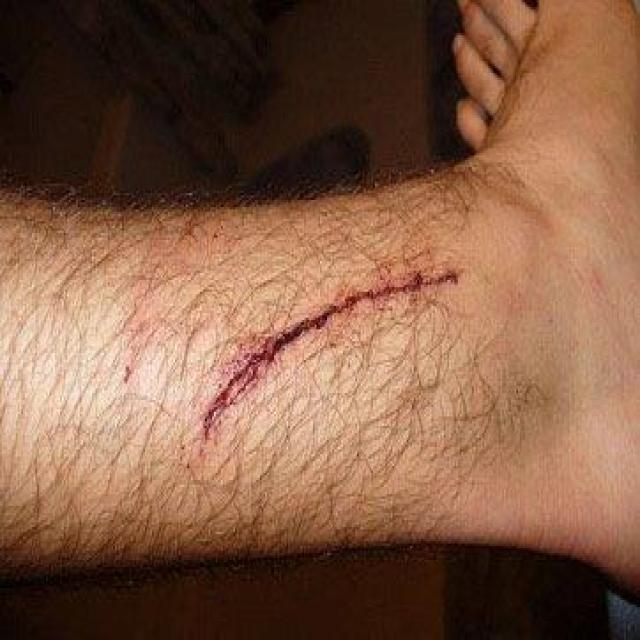Cut: (195, 256, 459, 437)
